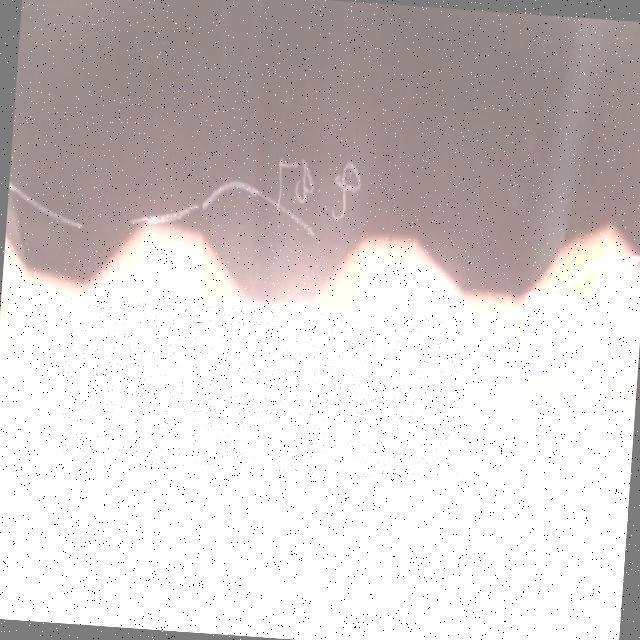Dent: (58, 294, 468, 487)
